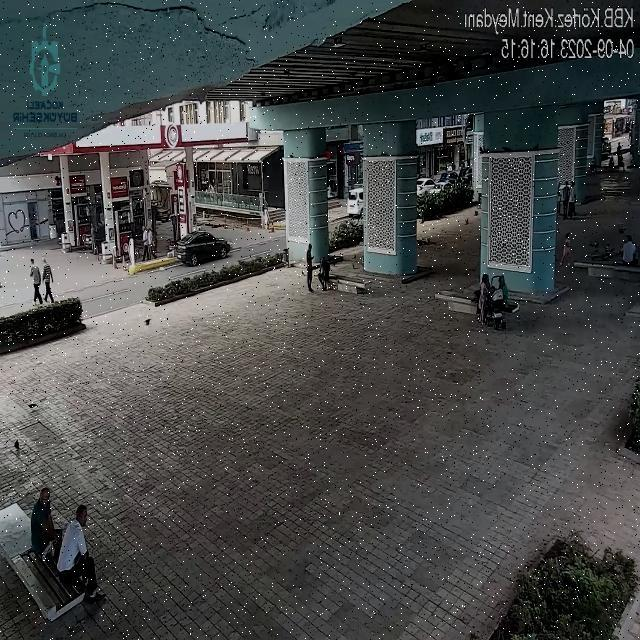Car: (167, 215, 239, 279)
